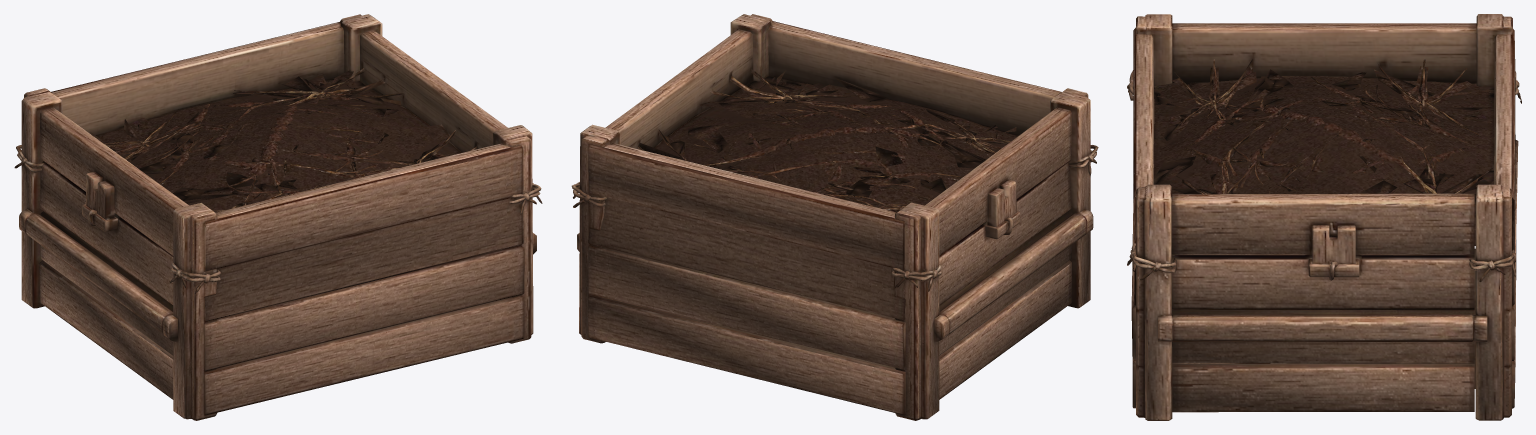
File: 堆肥箱.fbx
The picture shows the model from 3 angles, left to right: view 1: azimuth 30°, elevation 25°; view 2: azimuth 150°, elevation 25°; view 3: azimuth 270°, elevation 25°; orthographic projection. The views are drawn at different scales.
Visible parts, largest first — view 1: tripo_node_04b731b6; view 2: tripo_node_04b731b6; view 3: tripo_node_04b731b6.
Boxes of the visible parts, <box> form: tripo_node_04b731b6: <box>14,14,542,420</box>; tripo_node_04b731b6: <box>571,14,1098,420</box>; tripo_node_04b731b6: <box>1127,14,1521,420</box>.
Size of the model in its own units: 0.998 by 0.5293 by 0.8496.
